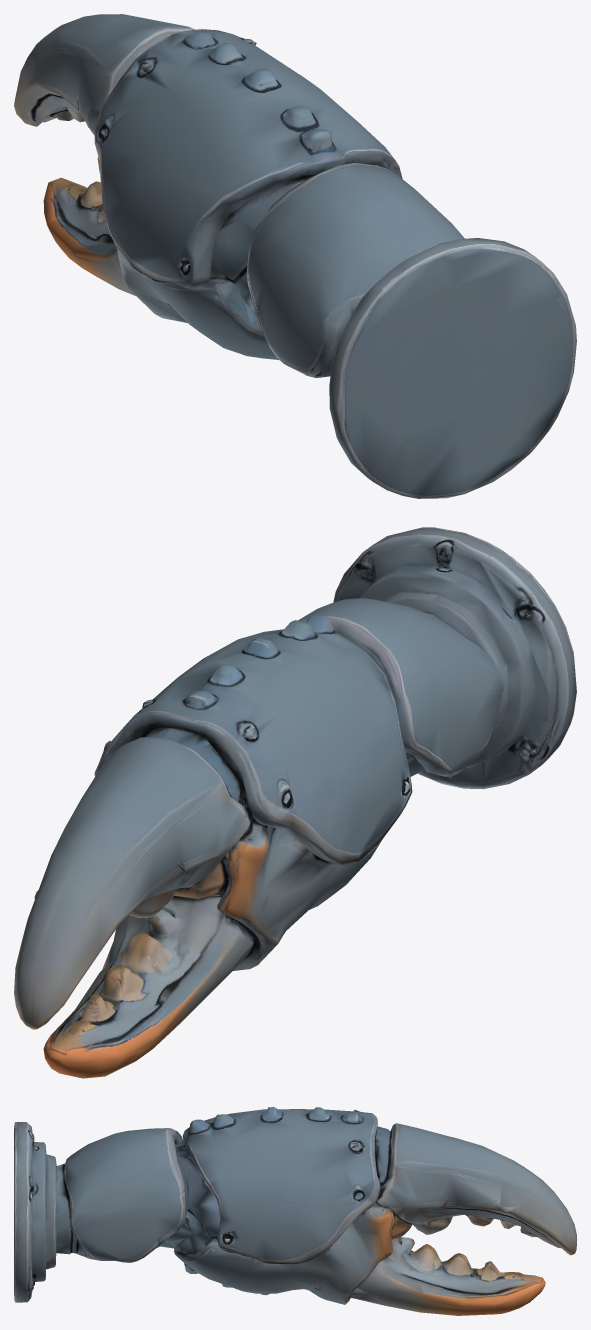
The model's file is claw_small.glb.
The picture shows the model from 3 angles, top to bottom: view 1: azimuth 30°, elevation 25°; view 2: azimuth 150°, elevation 25°; view 3: azimuth 270°, elevation 25°; orthographic projection. The views are drawn at different scales.
Visible parts, largest first — view 1: tripo_node_62b7f46e-c332-4c48-b66a-3600439fa56a; view 2: tripo_node_62b7f46e-c332-4c48-b66a-3600439fa56a; view 3: tripo_node_62b7f46e-c332-4c48-b66a-3600439fa56a.
Part boxes in pixels (left/top/right/bottom): tripo_node_62b7f46e-c332-4c48-b66a-3600439fa56a: left=14, top=14, right=576, bottom=498; tripo_node_62b7f46e-c332-4c48-b66a-3600439fa56a: left=14, top=527, right=576, bottom=1078; tripo_node_62b7f46e-c332-4c48-b66a-3600439fa56a: left=14, top=1107, right=576, bottom=1315.
Bounding box in the file's own units: 0.3217 × 0.4001 × 0.9989.
1 material, 1 textured.
